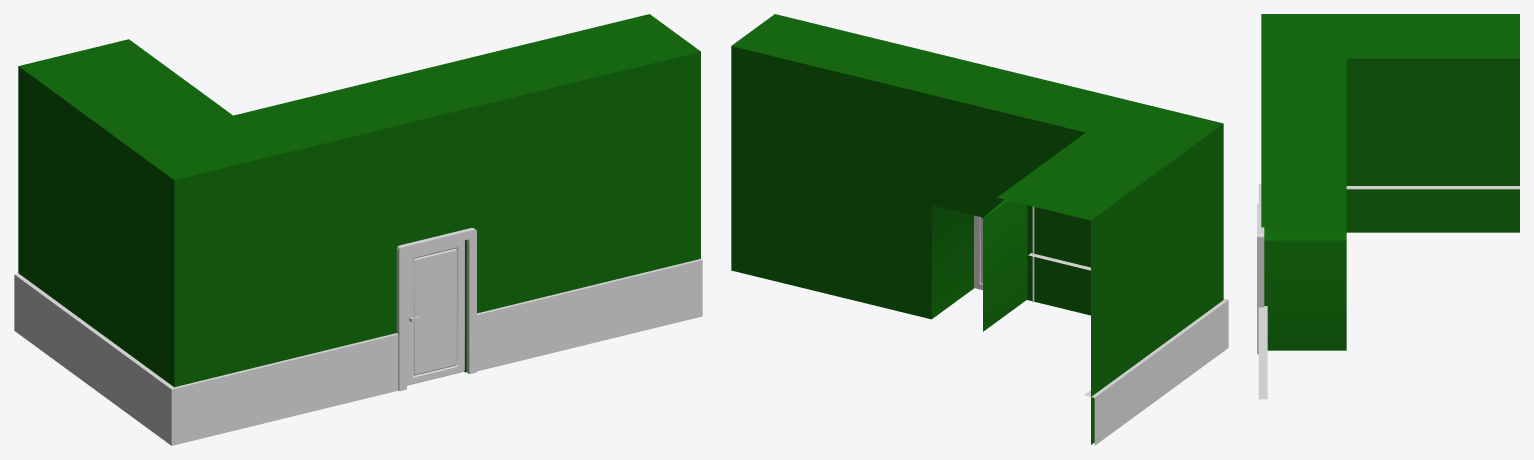
File: wall_closed_corner_2.fbx
3 views of the same model, side by side, from view 1: azimuth 30°, elevation 25°; view 2: azimuth 150°, elevation 25°; view 3: azimuth 270°, elevation 25° (orthographic). The views are drawn at different scales.
Visible parts, largest first — view 1: wall_with_door.001, door.001; view 2: wall_with_door.001, door.001; view 3: wall_with_door.001.
Part boxes in pixels (left/top/right/bottom): wall_with_door.001: left=14, top=14, right=702, bottom=445; door.001: left=407, top=240, right=464, bottom=385; wall_with_door.001: left=731, top=14, right=1228, bottom=445; door.001: left=974, top=215, right=982, bottom=290; wall_with_door.001: left=1257, top=14, right=1519, bottom=399.
Size of the model in its own units: 12.5 by 5.93 by 6.46.
